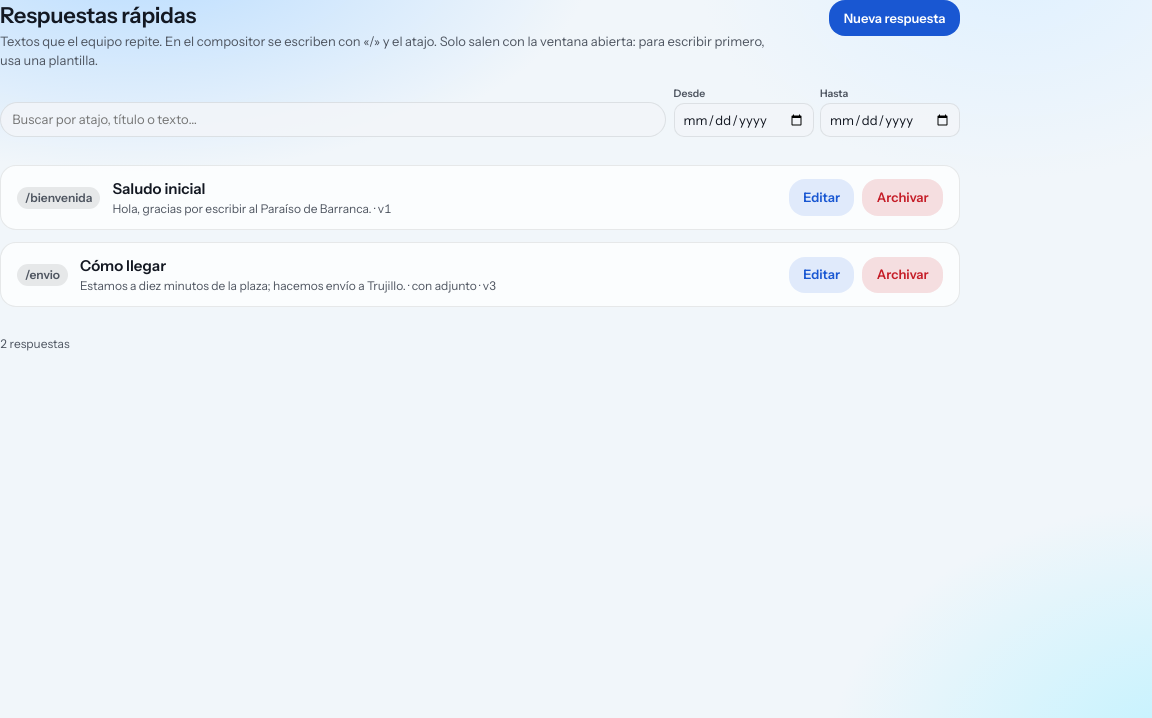
Test: Respuestas rápidas · imagen adjunta › la que ya tiene imagen enseña su miniatura
The width and height of the screenshot is (1152, 718).
Expected: the text "Cómo llegar" is shown, [80,256,166,275]
Click the button "Editar" in the row of "· con adjunto". click: (822, 275)
box: [789,257,854,293]
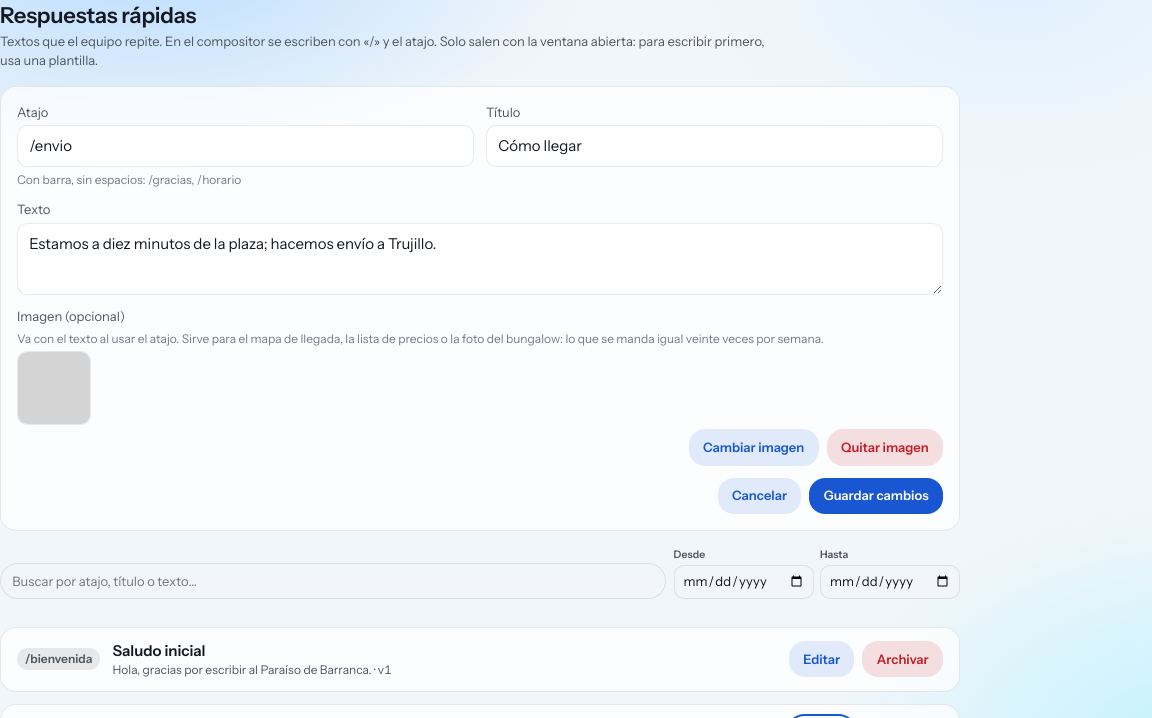
Now the button "Cambiar imagen" is shown, box [689,429,819,466]
